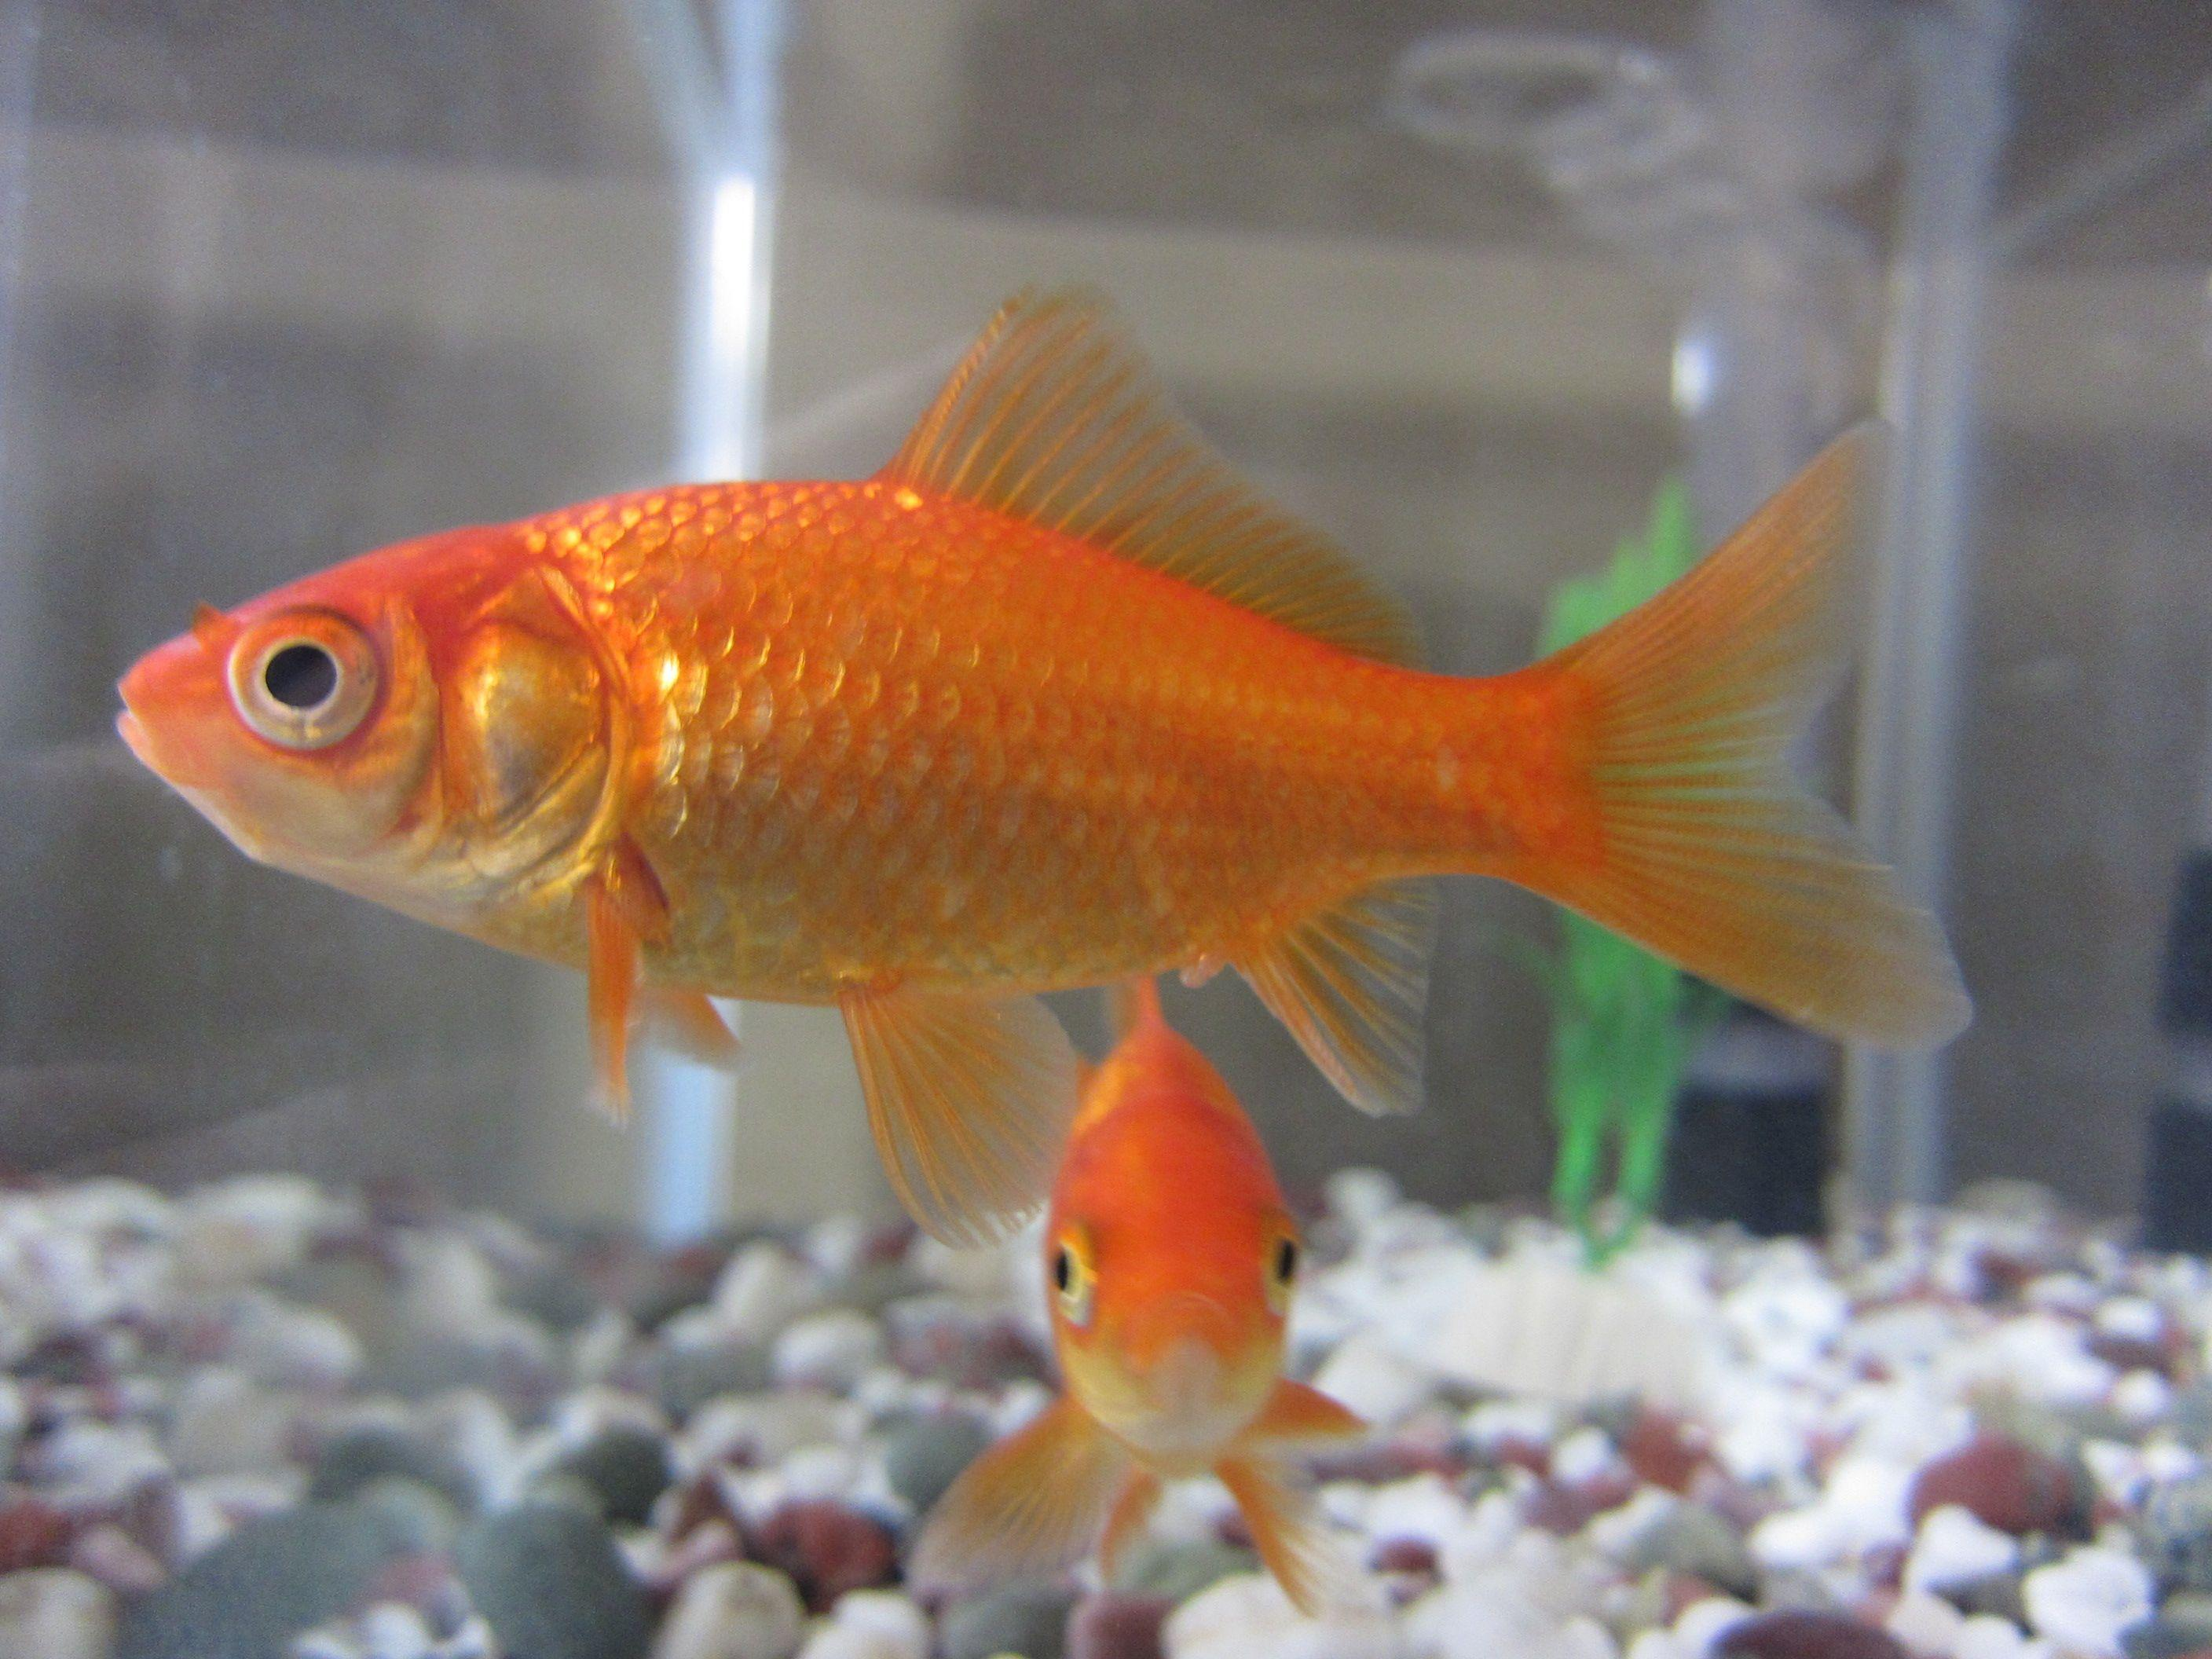Gold Fish: (131, 275, 1984, 1087), (939, 955, 1372, 1635)
